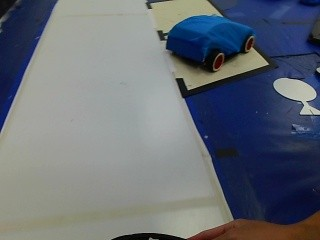car: (157, 8, 261, 75)
